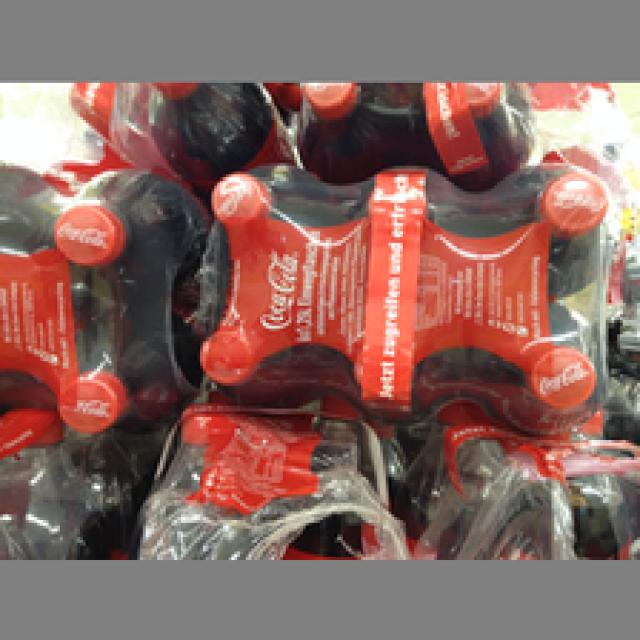groceries: (191, 154, 606, 420), (0, 157, 186, 437)
